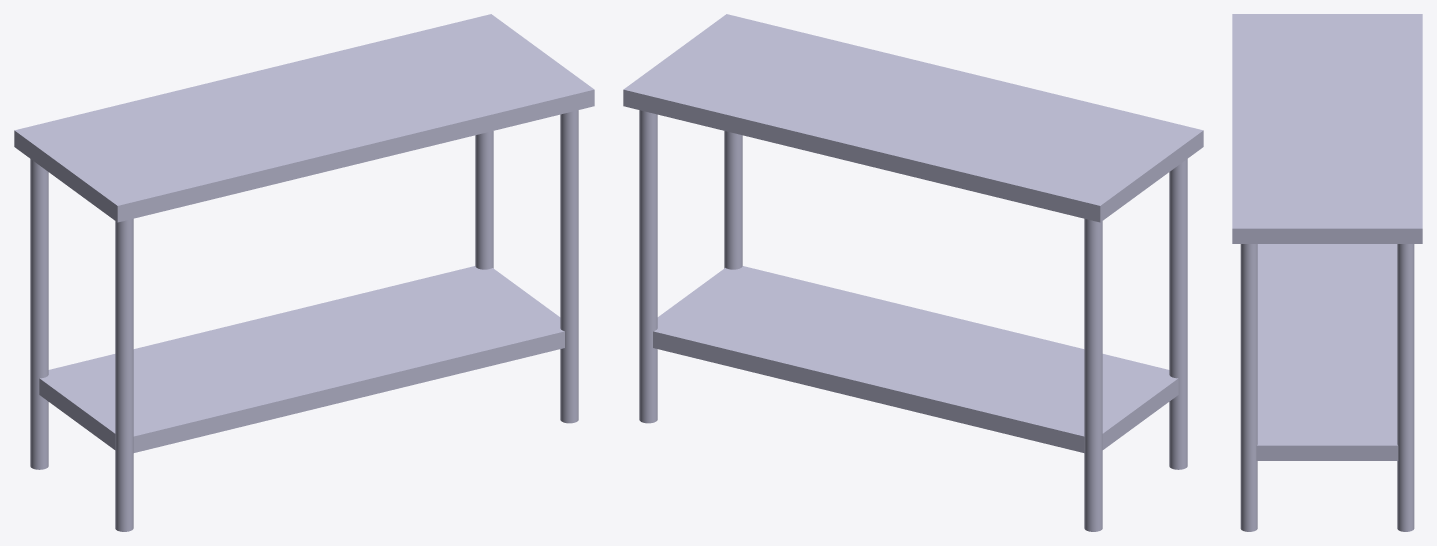
File: table02.gltf
3 views of the same model, side by side, from view 1: azimuth 30°, elevation 25°; view 2: azimuth 150°, elevation 25°; view 3: azimuth 270°, elevation 25° (orthographic). The views are drawn at different scales.
Parts seen in each view (by area): view 1: plate2_clone, plate1_clone, foot3_clone, foot1_clone, foot4_clone, foot2_clone; view 2: plate2_clone, plate1_clone, foot4_clone, foot2_clone, foot3_clone, foot1_clone; view 3: plate2_clone, plate1_clone, foot1_clone, foot2_clone.
Boxes of the visible parts, box(x1,y1,x2,y2) form: plate2_clone: box(14, 14, 594, 222); plate1_clone: box(39, 266, 564, 452); foot3_clone: box(115, 218, 133, 531); foot1_clone: box(560, 110, 578, 423); foot4_clone: box(30, 159, 48, 469); foot2_clone: box(475, 131, 493, 269); plate2_clone: box(623, 14, 1203, 222); plate1_clone: box(653, 266, 1178, 452); foot4_clone: box(1084, 218, 1102, 531); foot2_clone: box(639, 110, 657, 423); foot3_clone: box(1169, 159, 1187, 469); foot1_clone: box(724, 131, 742, 269); plate2_clone: box(1232, 14, 1422, 243); plate1_clone: box(1256, 244, 1398, 460); foot1_clone: box(1240, 244, 1257, 531); foot2_clone: box(1397, 244, 1414, 531).
Size of the model in its own units: 1.2 by 0.8 by 0.45.
